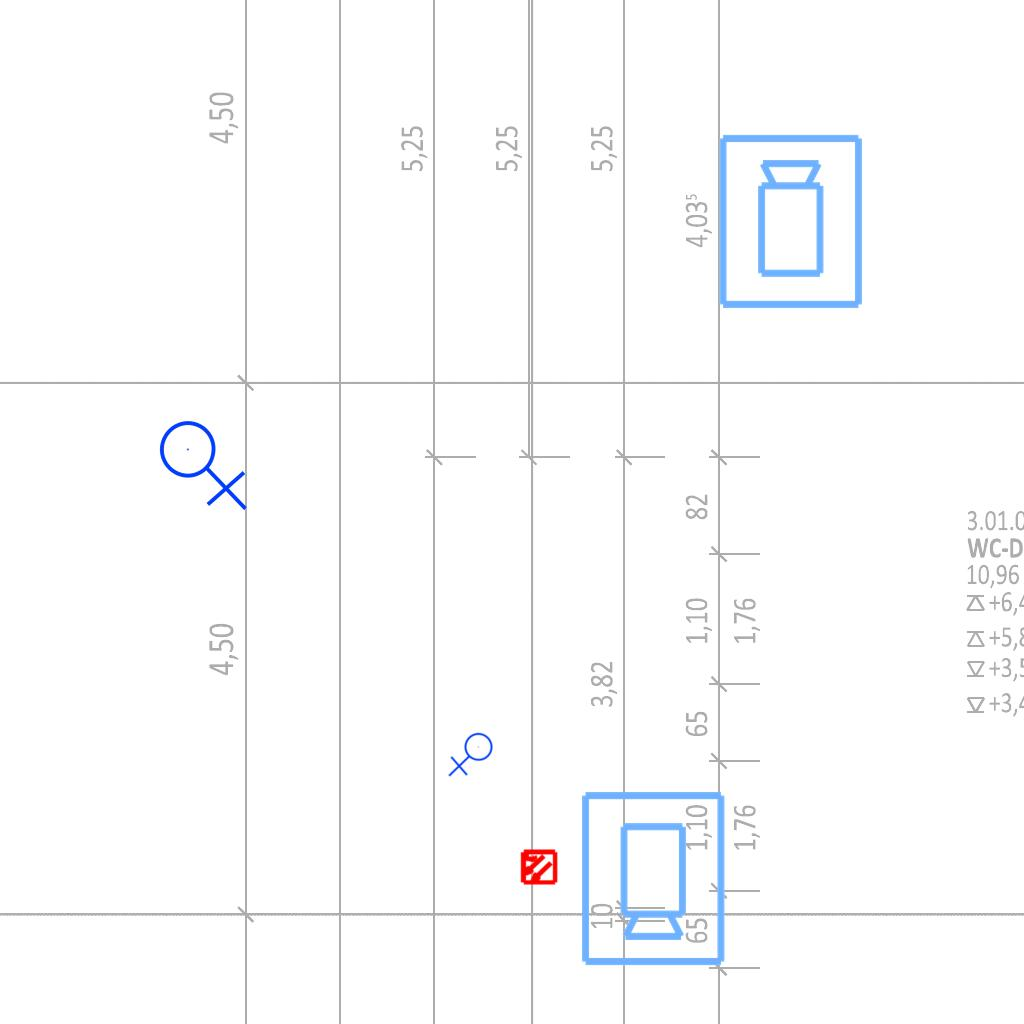Elektroanschluss_allgemein_230V_Geraeteanschlussdose_230V: (158, 412, 252, 511), (448, 732, 497, 779)
KFO_Kamera_mit_Festobjektiv: (715, 131, 869, 313), (575, 787, 729, 969)
OT_Multisensormelder_(Kombination_RMO_WMD): (510, 839, 566, 895)
